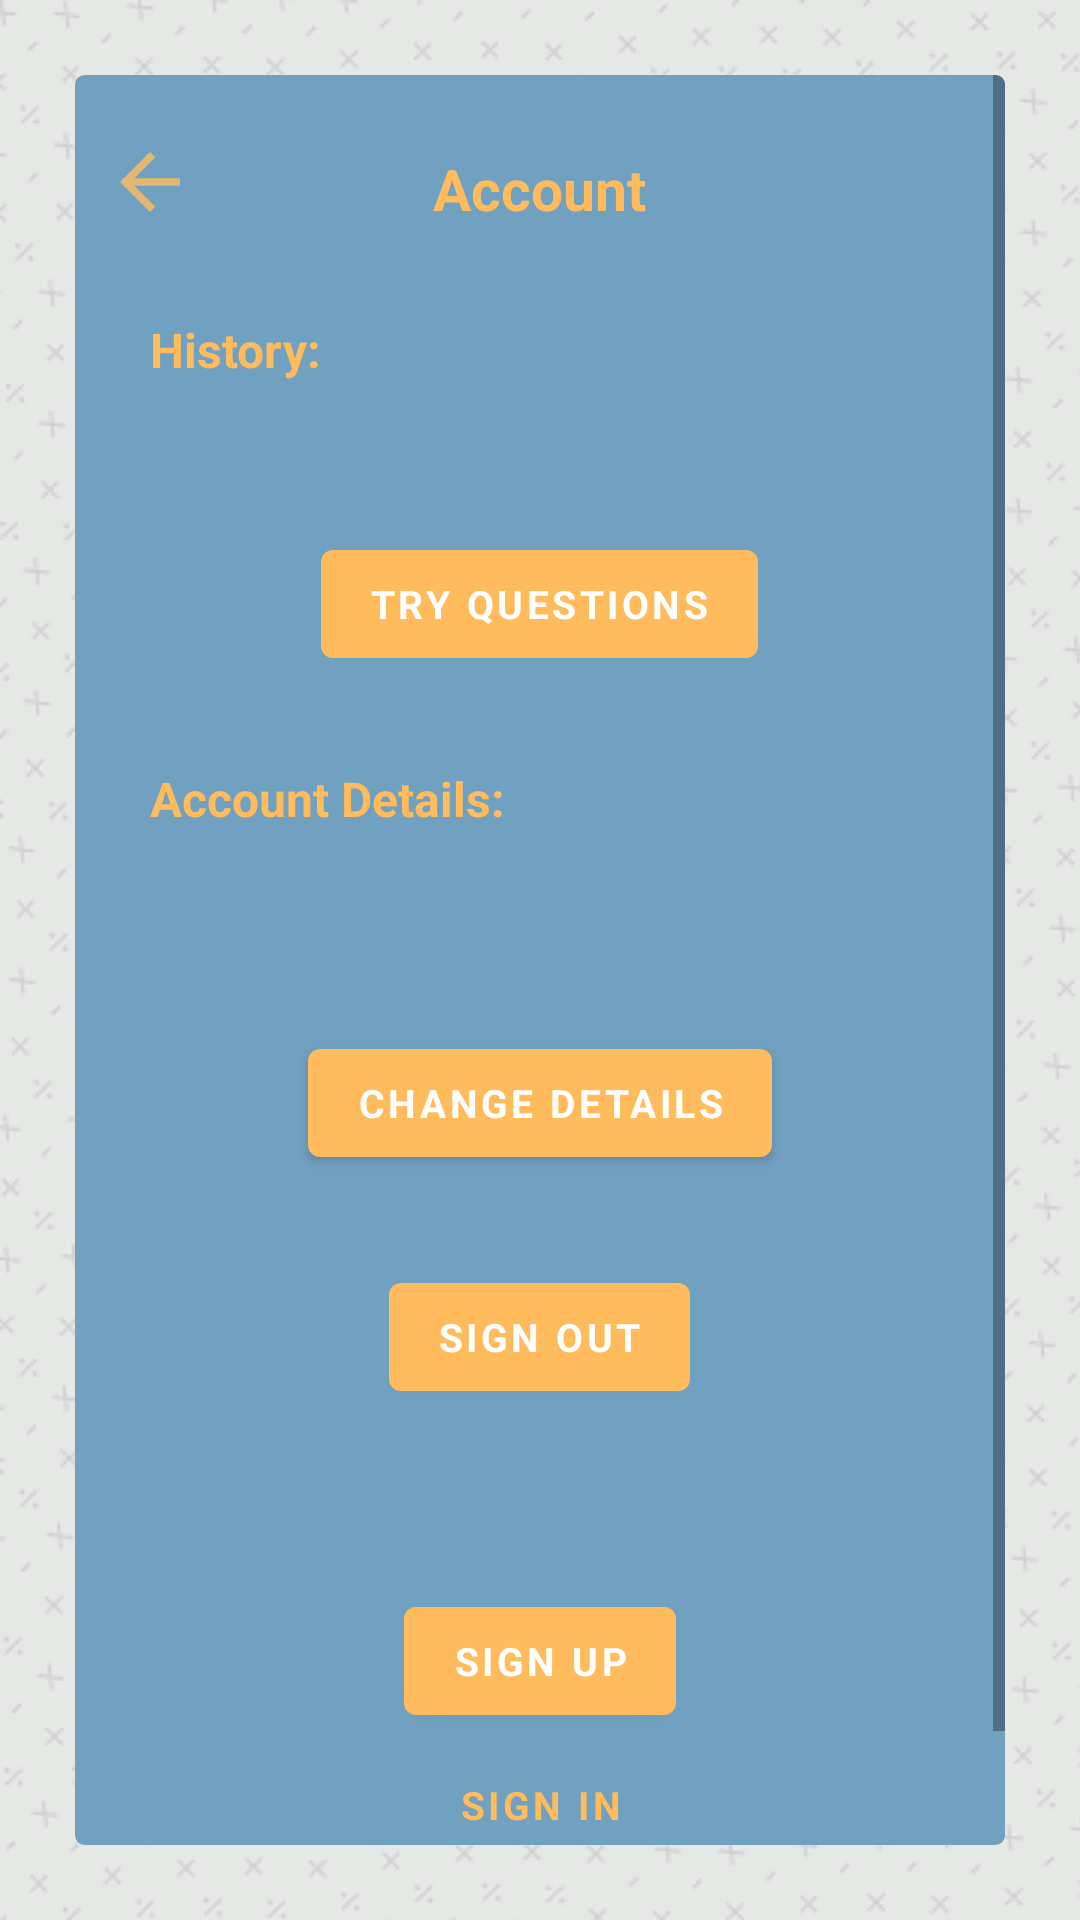

Named icons in this screenshot (1080 × 1920) and their centers, point (x, y):
Exit: point (150, 182)
